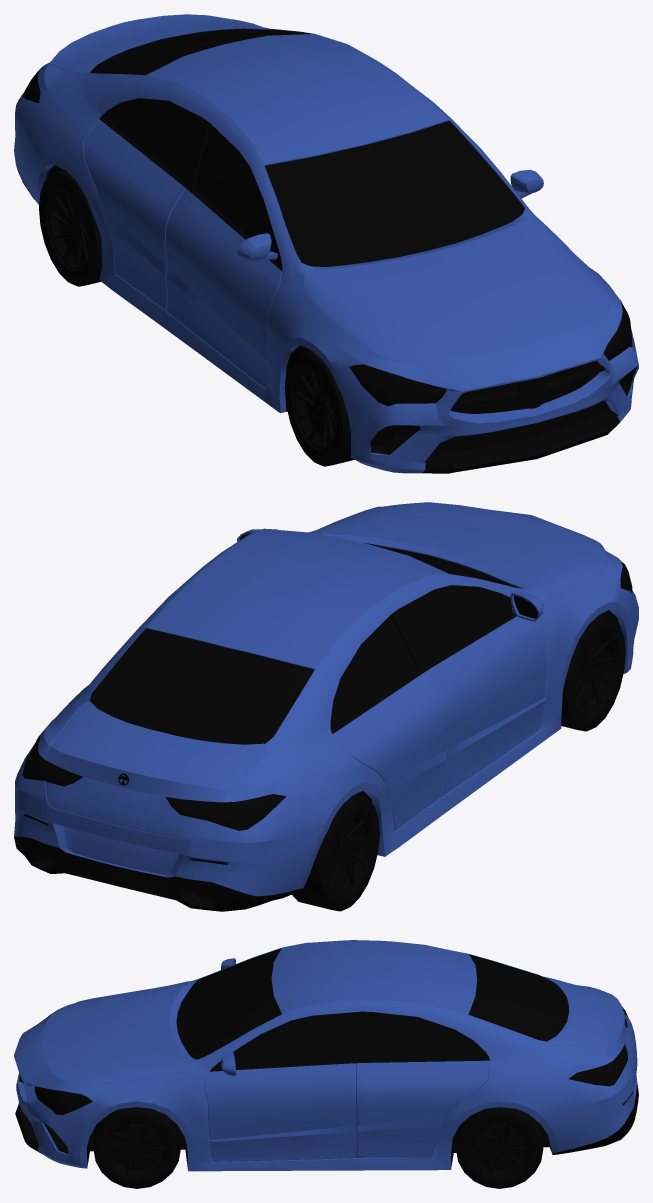
File: Merc_cla.fbx
The picture shows the model from 3 angles, top to bottom: view 1: azimuth 30°, elevation 25°; view 2: azimuth 150°, elevation 25°; view 3: azimuth 270°, elevation 25°; orthographic projection. The views are drawn at different scales.
Visible parts, largest first — view 1: polySurface1, onteker2, arkateker2; view 2: polySurface1, arkateker2, onteker2; view 3: polySurface1, onteker3, arkateker1.
Boxes of the visible parts, x1,y1,x2,y2 form: polySurface1: (14,14,638,473); onteker2: (284,350,354,466); arkateker2: (39,170,101,286); polySurface1: (14,502,638,911); arkateker2: (292,794,379,911); onteker2: (561,614,625,731); polySurface1: (14,940,638,1171); onteker3: (93,1107,180,1188); arkateker1: (456,1107,543,1188).
Size of the model in its own units: 164 by 121 by 397.
